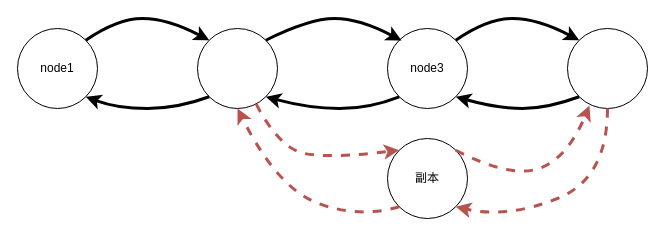
This 665x236 diagram has some shape labels left out. The box of each missing label's shape, as (x1, y1, x2, y2) in pixels:
node2: (196, 28, 278, 108)
node4: (566, 28, 648, 108)
